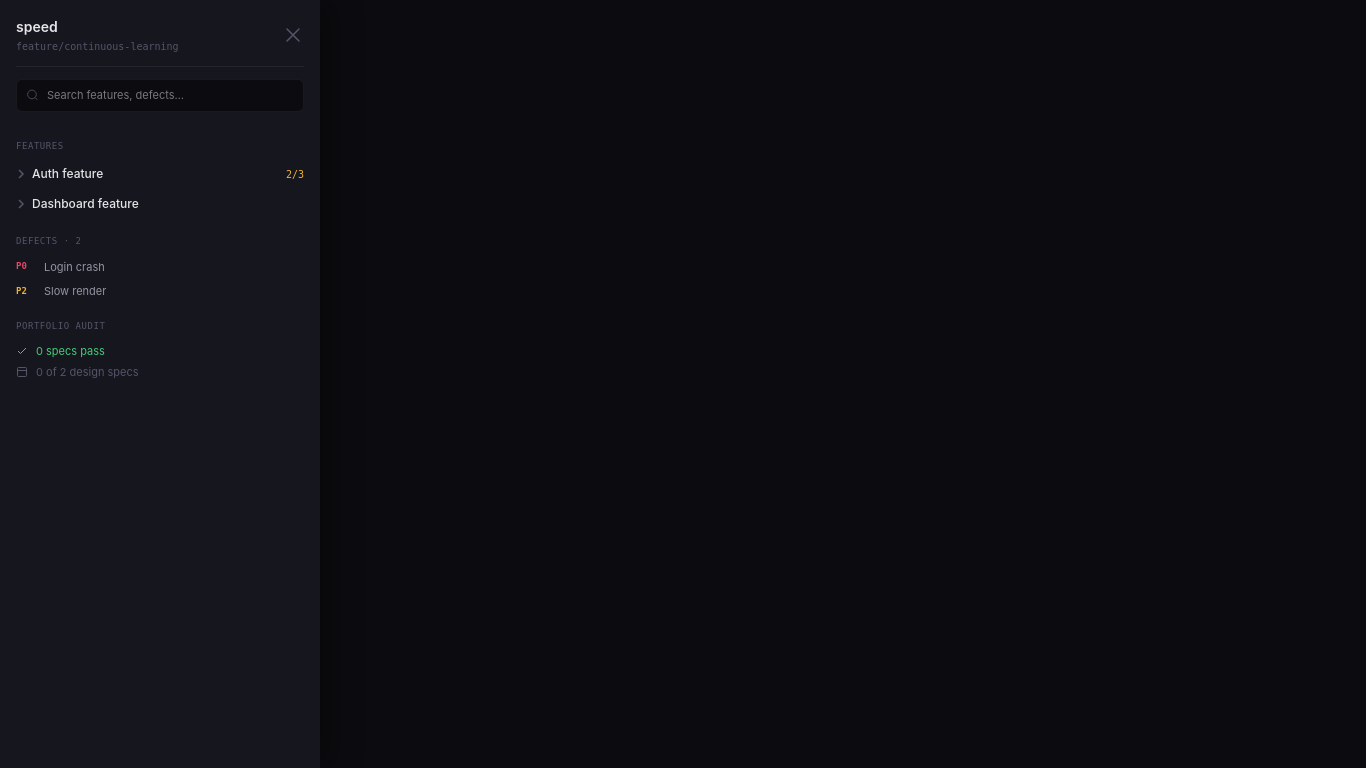
Test case: ExplorerPanel › search › filters defects by name
Type "Login" into the field with placeholder "Search features, defects…". click: (160, 95)
box: [16,79,304,112]
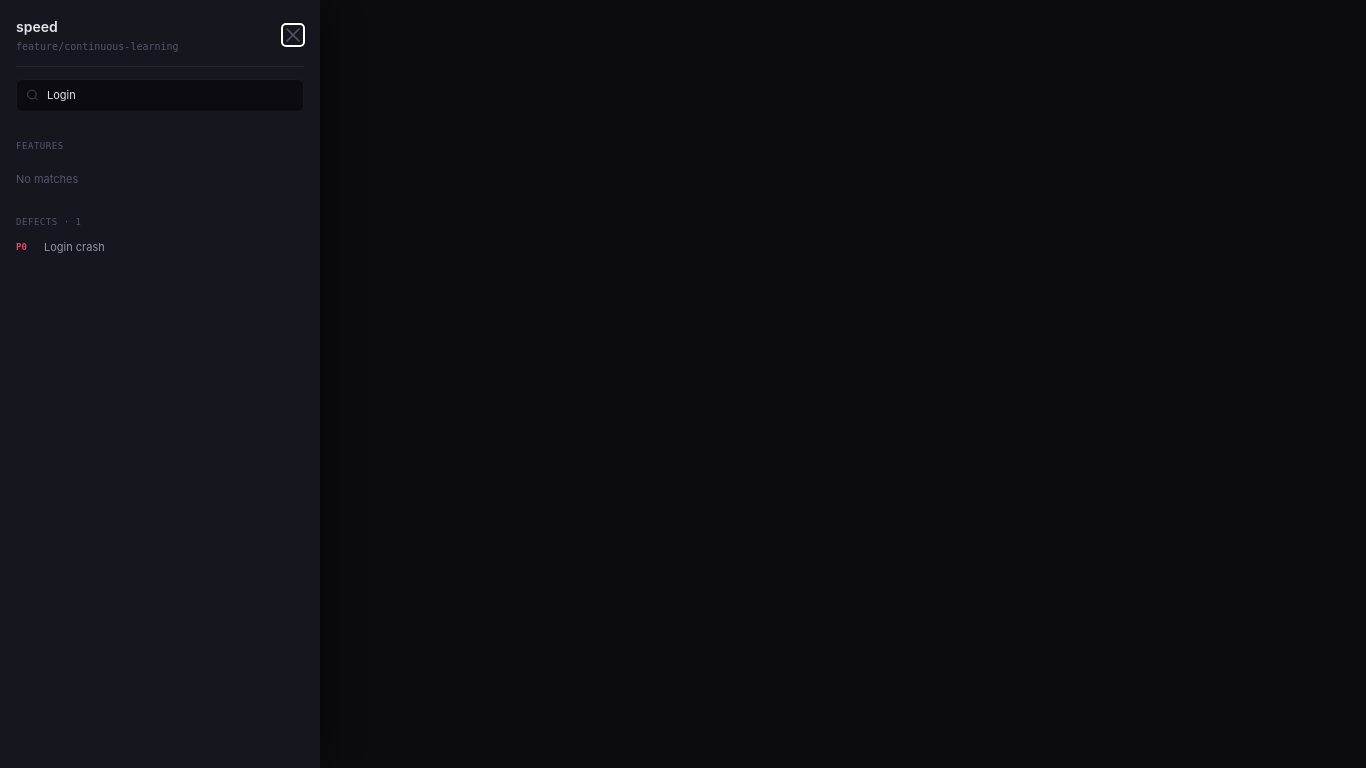
Expected: the text "Login crash" is shown, [44,239,105,256]
Result: the text "Slow render" is gone
